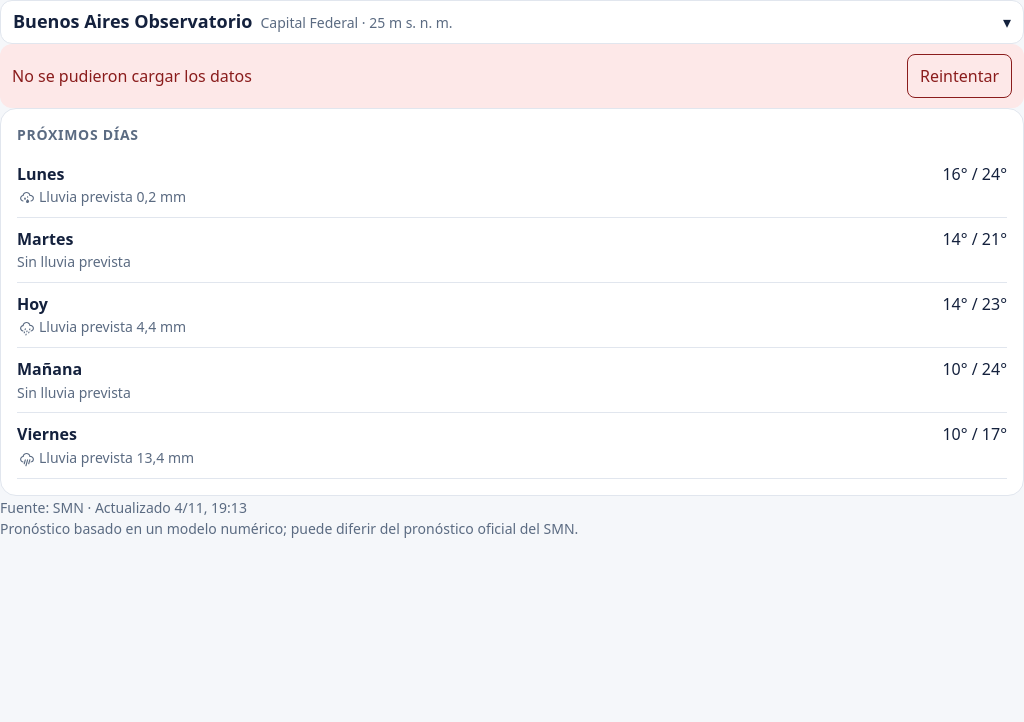
WeatherScreen › error de servicio: banner con Reintentar
Expected: the text "No se pudieron cargar los datos" is shown, 12,65 -> 252,87
Click the button "Reintentar".
click(960, 76)  # box 907,54 -> 1012,98
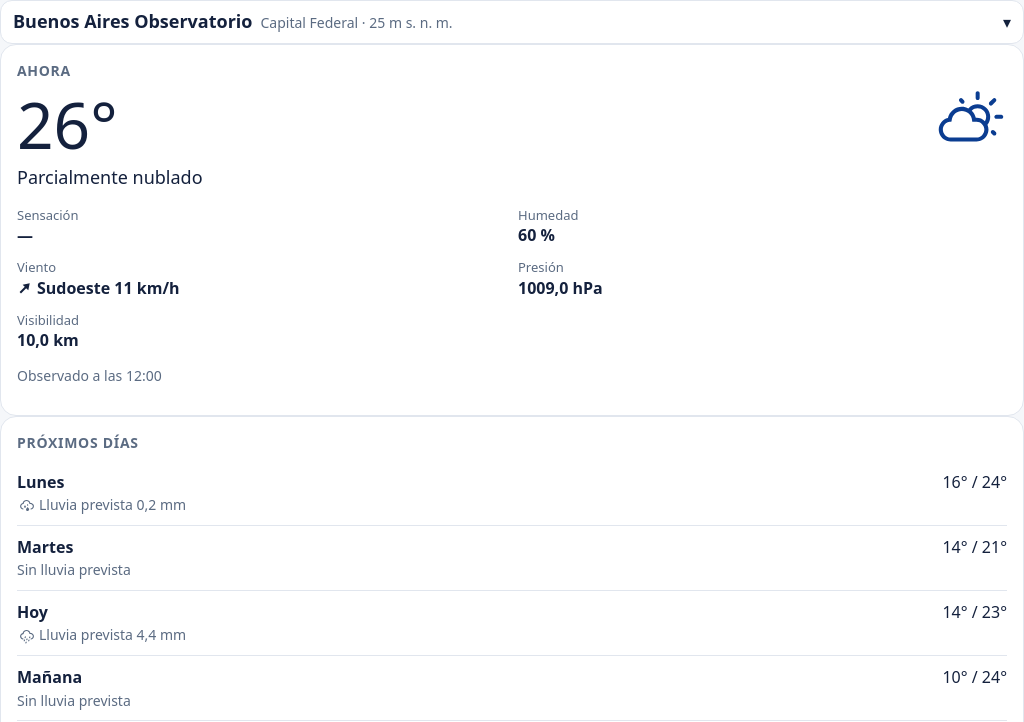
Expected: the heading "Ahora" is shown, 17,61 -> 71,80
Expected: the text "No se pudieron cargar los datos" is gone
